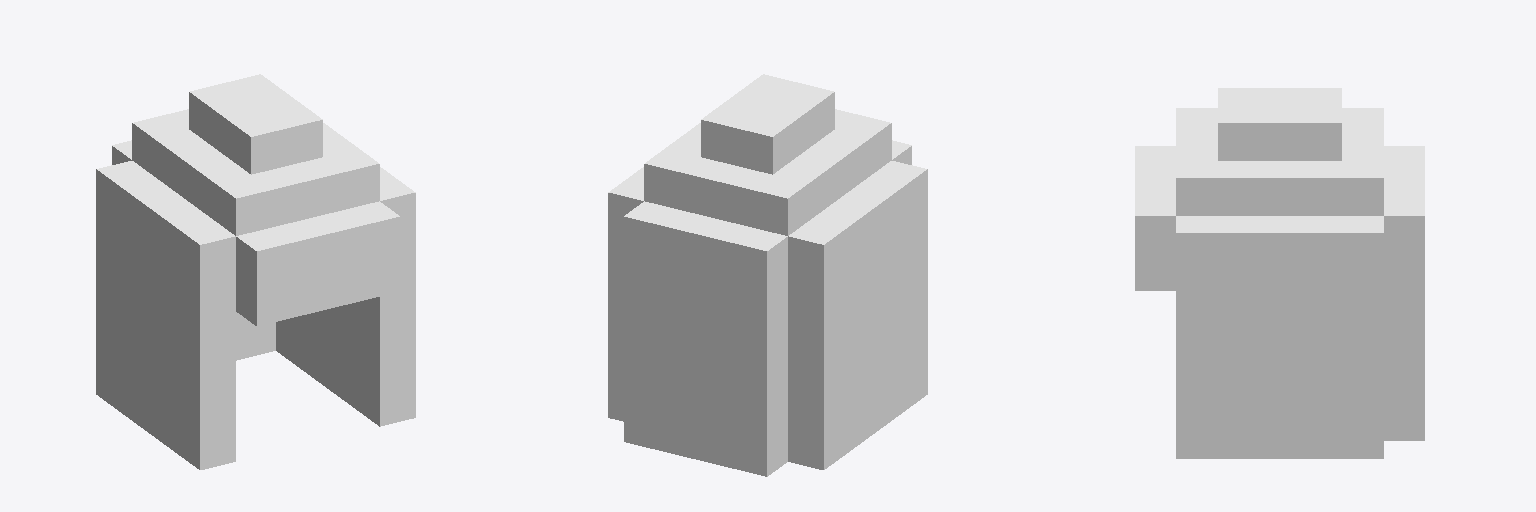
The model's file is char-170-helm_med_1a_sh.obj.
The picture shows the model from 3 angles: view 1: azimuth 30°, elevation 25°; view 2: azimuth 150°, elevation 25°; view 3: azimuth 270°, elevation 25°; orthographic projection.
Visible parts, largest first — view 1: helm_med_1a_sh; view 2: helm_med_1a_sh; view 3: helm_med_1a_sh.
Boxes of the visible parts, x1,y1,x2,y2 form: helm_med_1a_sh: [96, 74, 415, 469]; helm_med_1a_sh: [608, 74, 927, 476]; helm_med_1a_sh: [1135, 88, 1424, 458].
Size of the model in its own units: 0.6 by 0.8 by 0.7.